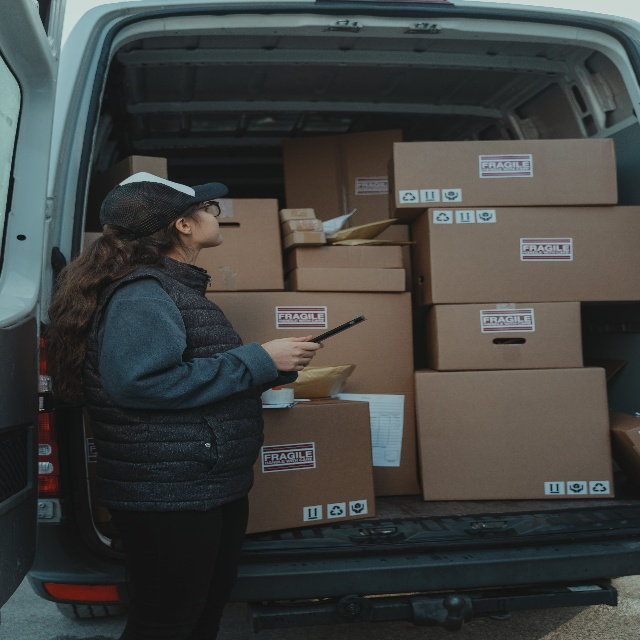Gafas: (184, 197, 221, 218)
Sin_guantes: (261, 336, 320, 373)
